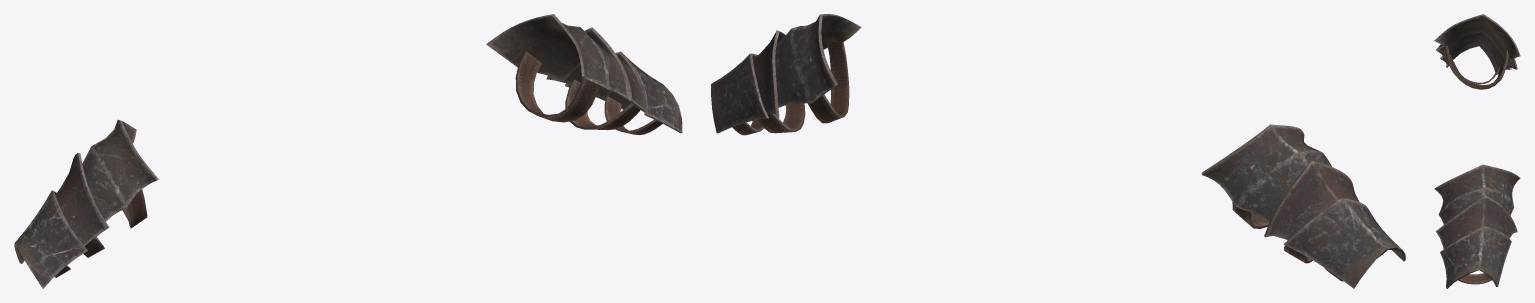
File: sk_dg_uruk_bracer_heavy_c.fbx
The picture shows the model from 3 angles, left to right: view 1: azimuth 30°, elevation 25°; view 2: azimuth 150°, elevation 25°; view 3: azimuth 270°, elevation 25°; orthographic projection. The views are drawn at different scales.
Visible parts, largest first — view 1: sk_dg_uruk_bracer_heavy_c; view 2: sk_dg_uruk_bracer_heavy_c; view 3: sk_dg_uruk_bracer_heavy_c.
Part boxes in pixels (x1,y1,x2,y2): sk_dg_uruk_bracer_heavy_c: [14, 14, 682, 288]; sk_dg_uruk_bracer_heavy_c: [711, 14, 1405, 288]; sk_dg_uruk_bracer_heavy_c: [1434, 14, 1520, 288].
Size of the model in its own units: 1.33 by 0.2151 by 0.2608.
1 material, 1 textured.
